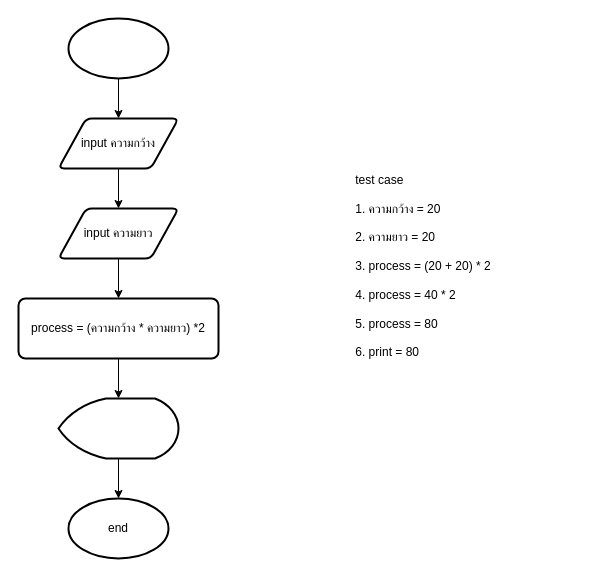
Image size: 595x576. Some labels were removed from this diagram. The shapes that lost their labels are listed below. From the top down, each one's centre as x and y in pixels, then its label:
pixel 118 48: start
pixel 118 428: print process
